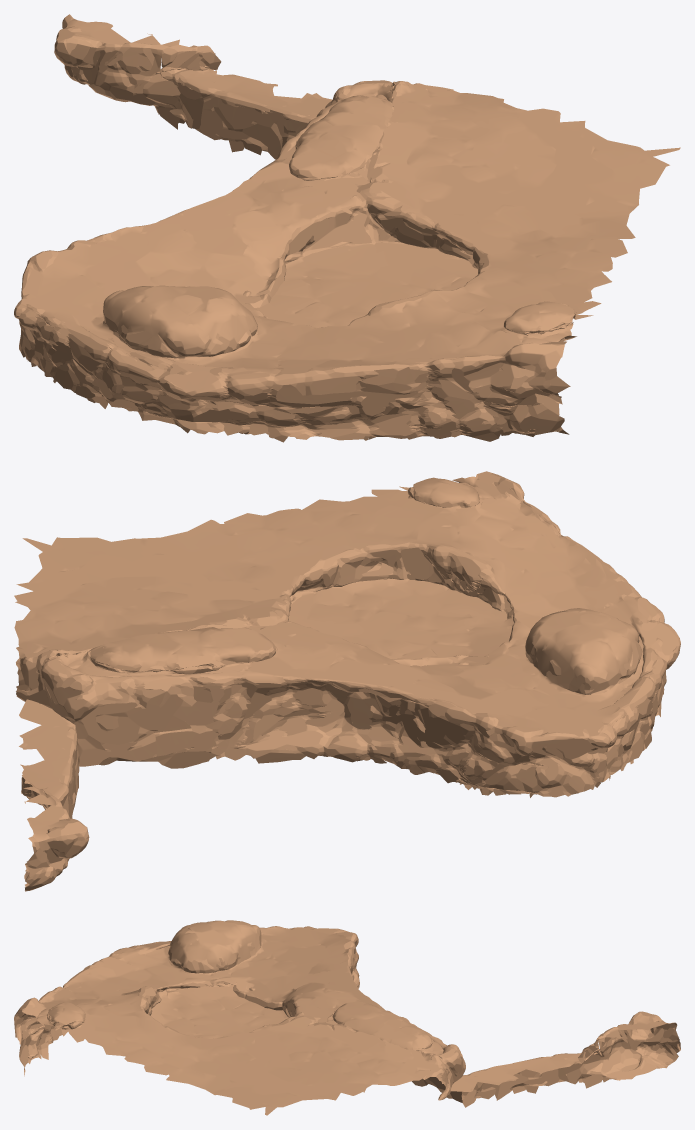
The model's file is SandstoneBig_Mesh_25_003LODs.fbx.
The picture shows the model from 3 angles, top to bottom: view 1: azimuth 30°, elevation 25°; view 2: azimuth 150°, elevation 25°; view 3: azimuth 270°, elevation 25°; orthographic projection. The views are drawn at different scales.
Parts seen in each view (by area): view 1: Mesh_25.003_LOD0; view 2: Mesh_25.003_LOD0; view 3: Mesh_25.003_LOD0.
Part boxes in pixels (left/top/right/bottom): Mesh_25.003_LOD0: left=14, top=14, right=680, bottom=442; Mesh_25.003_LOD0: left=14, top=471, right=680, bottom=891; Mesh_25.003_LOD0: left=14, top=920, right=680, bottom=1115.
Size of what is drawn, in the model's own units: 18494 by 3034 by 24874.
